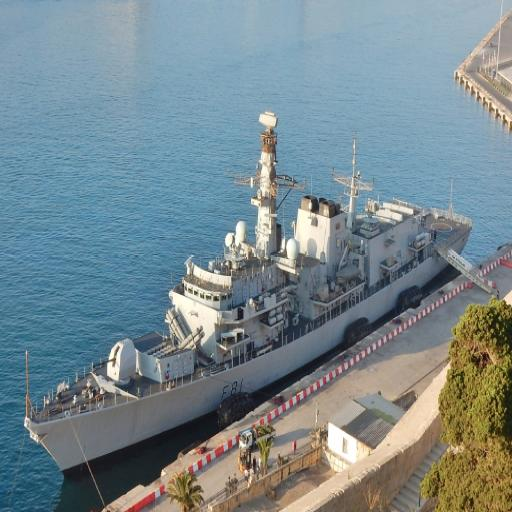Fragata: (18, 107, 480, 491)
